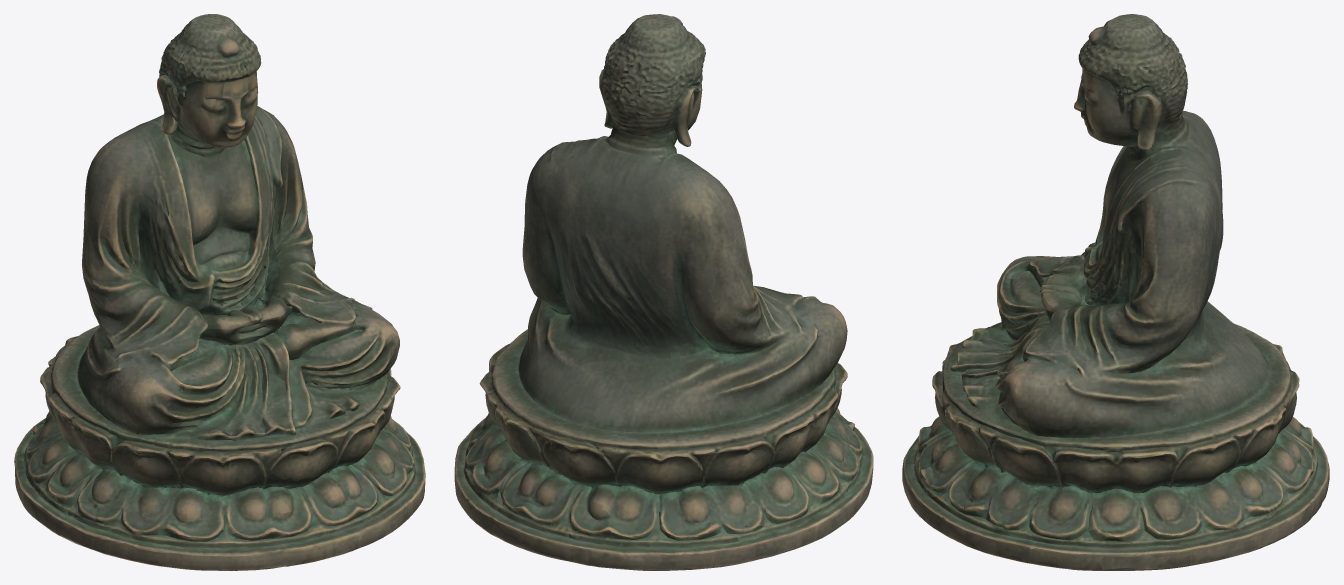
Rendered from PROP-011.glb.
3 views of the same model, side by side, from view 1: azimuth 30°, elevation 25°; view 2: azimuth 150°, elevation 25°; view 3: azimuth 270°, elevation 25° (orthographic). The views are drawn at different scales.
Parts seen in each view (by area): view 1: world; view 2: world; view 3: world.
Boxes of the visible parts, left/top/right/bottom form: world: left=14, top=14, right=425, bottom=570; world: left=454, top=14, right=873, bottom=570; world: left=902, top=14, right=1329, bottom=570.
Bounding box in the file's own units: 0.3403 × 0.4199 × 0.3514.
Materials: 1 (1 with a texture image).
